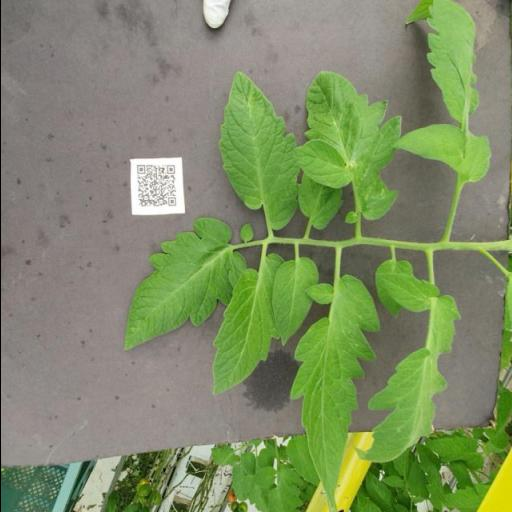Healthy: (352, 272, 464, 466), (292, 276, 378, 502), (394, 0, 494, 180), (119, 214, 245, 352), (214, 74, 298, 230), (206, 254, 288, 396), (270, 257, 320, 349)
